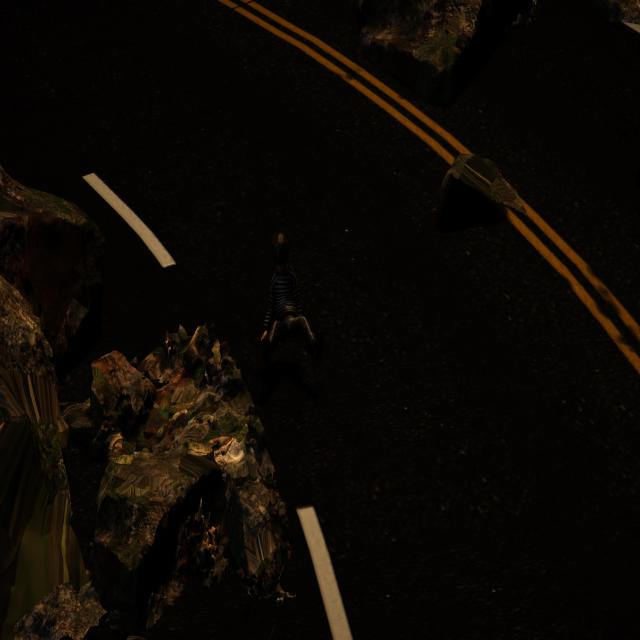Human: (252, 220, 330, 376)
